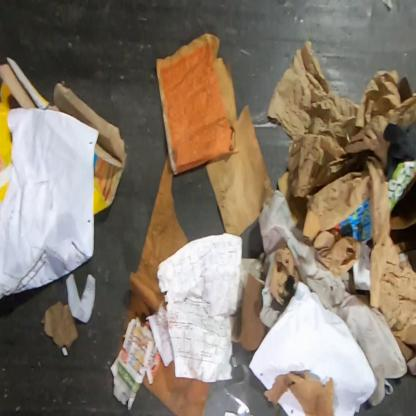cardboard: (0, 56, 129, 215), (275, 170, 321, 243), (384, 159, 415, 255), (332, 198, 372, 242)
